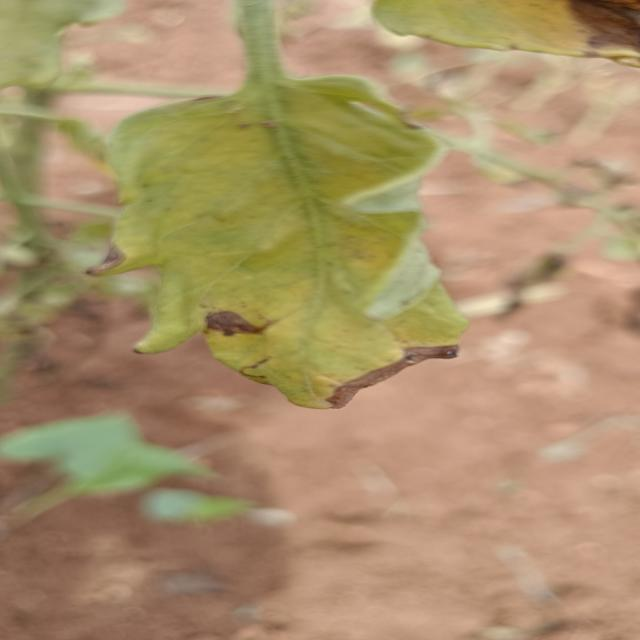tomato_early blight: (105, 74, 467, 409)
